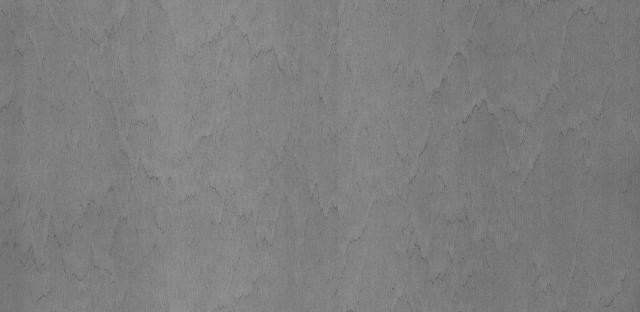silk_spot: (385, 32, 599, 269)
